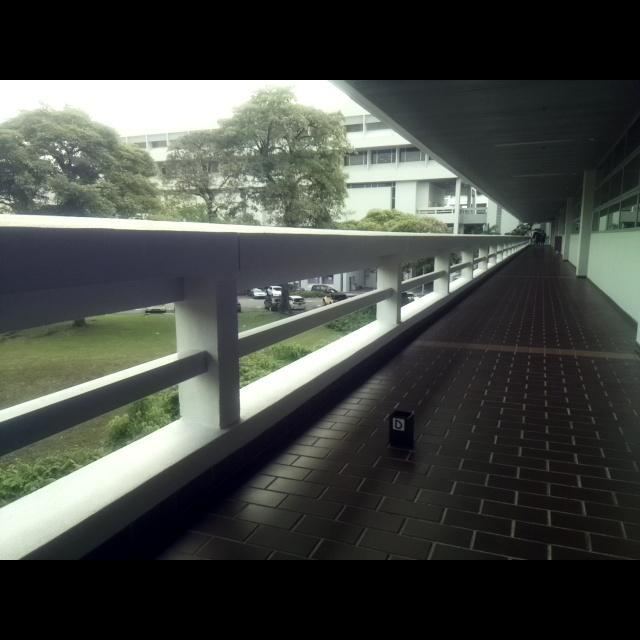D: (394, 419, 404, 430)
